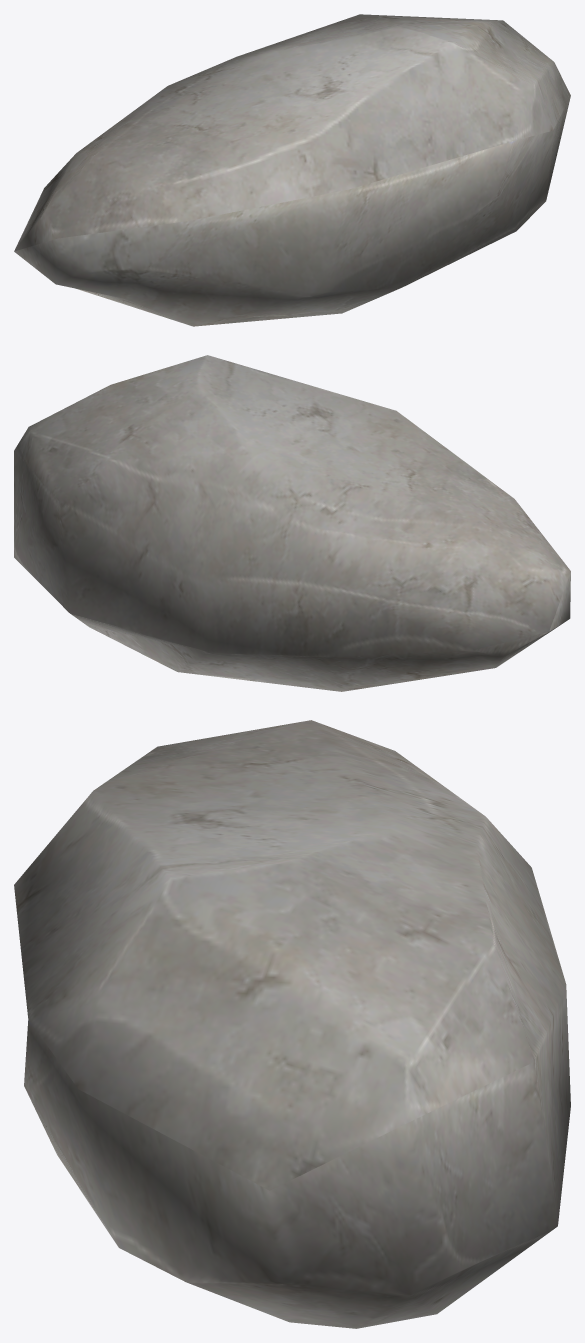
Rendered from Rock_07_high.glb.
3 views of the same model, one above another, from view 1: azimuth 30°, elevation 25°; view 2: azimuth 150°, elevation 25°; view 3: azimuth 270°, elevation 25° (orthographic). The views are drawn at different scales.
Visible parts, largest first — view 1: rock_07; view 2: rock_07; view 3: rock_07.
Part boxes in pixels (<box>): rock_07: <box>14,14,570,326</box>; rock_07: <box>14,355,570,691</box>; rock_07: <box>14,720,570,1328</box>.
Bounding box in the file's own units: 1.3 × 0.5687 × 0.6678.
Materials: 1 (1 with a texture image).
